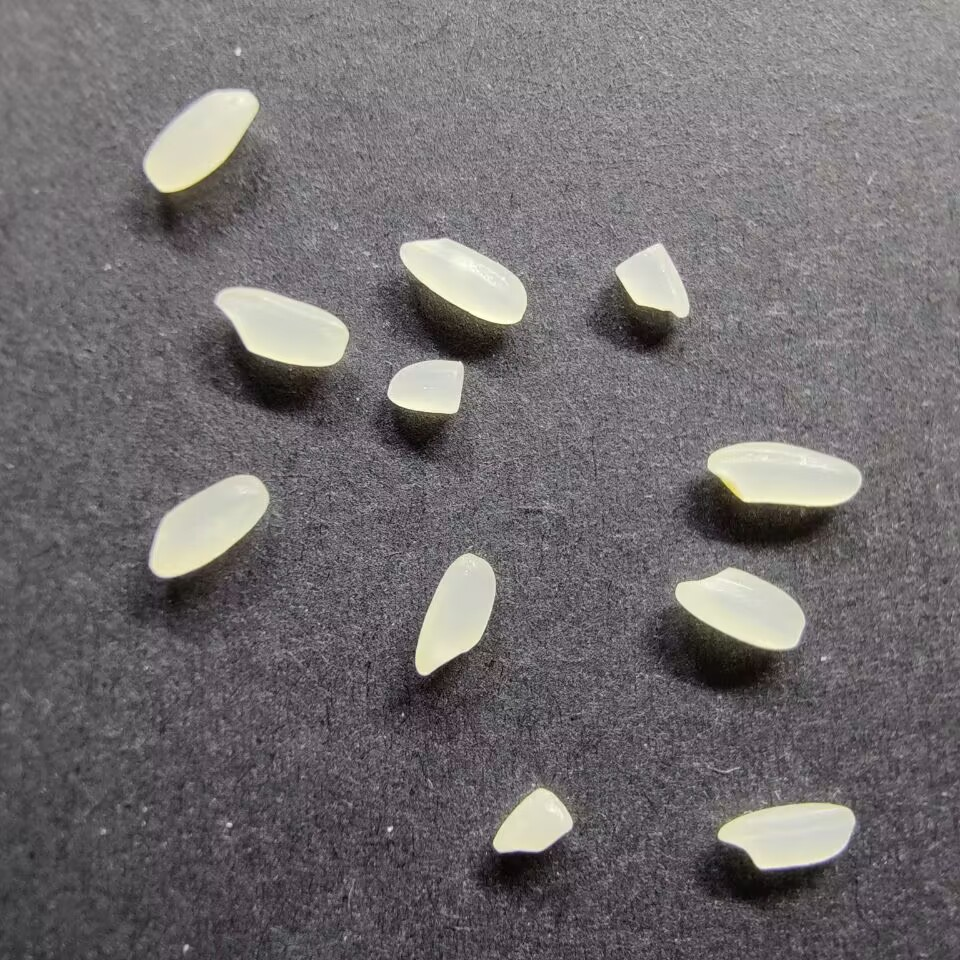broken: (613, 240, 692, 320), (491, 787, 573, 856), (385, 359, 467, 415)
rice: (146, 473, 271, 580), (144, 87, 259, 195), (396, 236, 528, 325), (672, 566, 807, 651), (211, 286, 350, 368), (703, 441, 864, 509), (413, 552, 497, 677), (716, 802, 856, 871)
